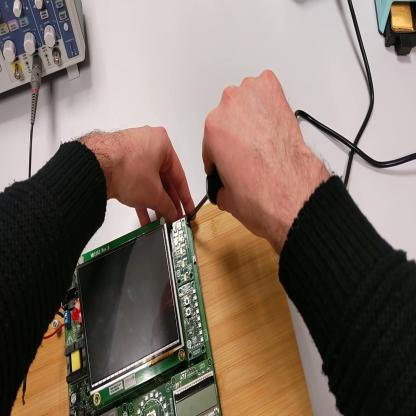hand: (201, 72, 309, 240), (105, 125, 197, 225)
low voltage board: (23, 216, 223, 416)
oscilloscope: (2, 1, 86, 96)
screwdriver-: (187, 167, 225, 222)
welder base: (374, 3, 415, 58)
working area: (11, 205, 312, 414)
